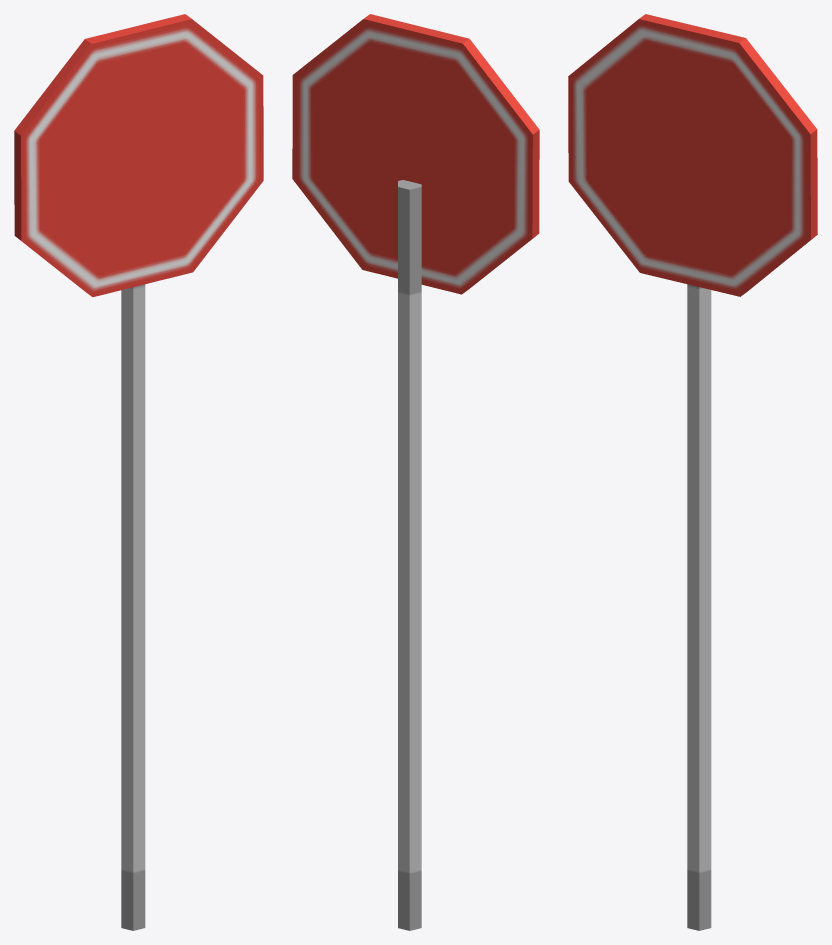
Rendered from city_sign_03.fbx.
3 views of the same model, side by side, from view 1: azimuth 30°, elevation 25°; view 2: azimuth 150°, elevation 25°; view 3: azimuth 330°, elevation 25° (orthographic).
Parts seen in each view (by area): view 1: city:polySurface317; view 2: city:polySurface317; view 3: city:polySurface317.
Boxes of the visible parts, <box> form: city:polySurface317: <box>14,14,263,930</box>; city:polySurface317: <box>292,14,539,930</box>; city:polySurface317: <box>568,14,817,930</box>.
Bounding box in the file's own units: 0.732 × 2.6 × 0.0807.
